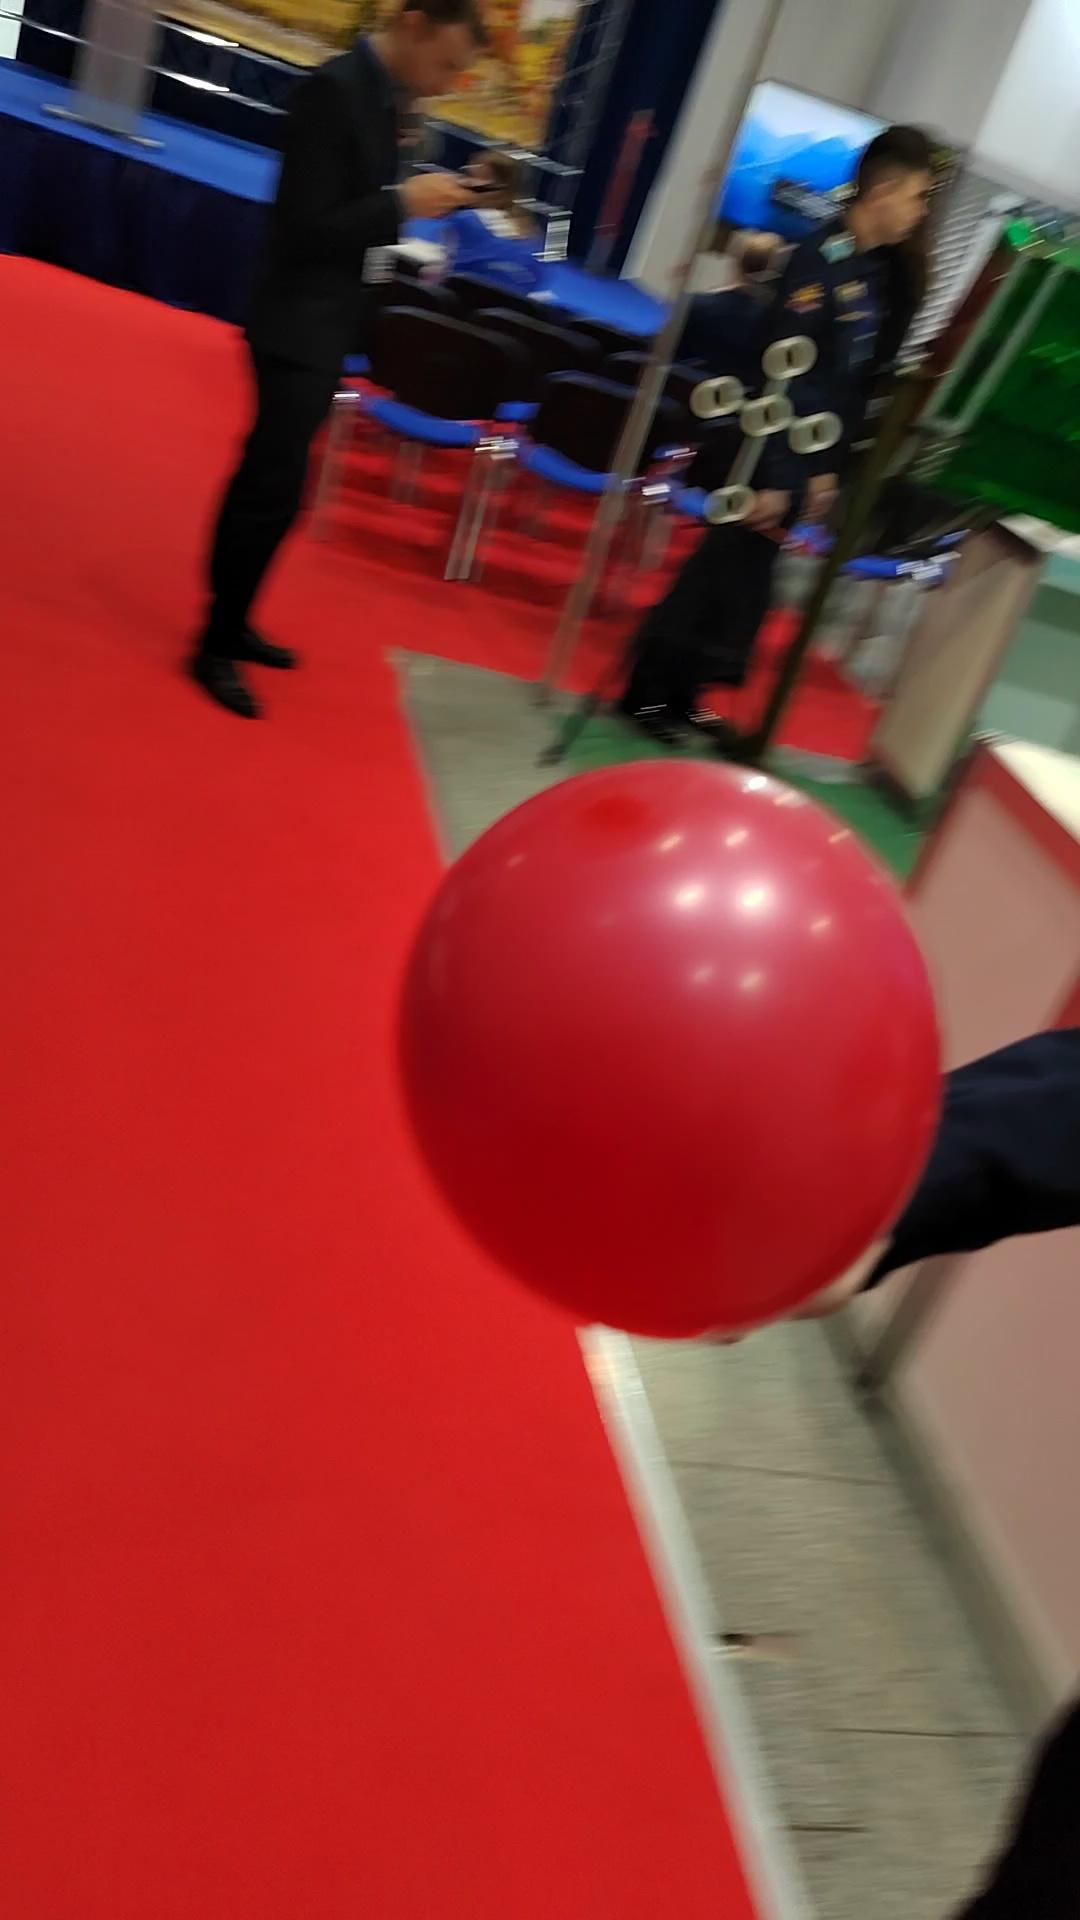red: (385, 756, 943, 1354)
